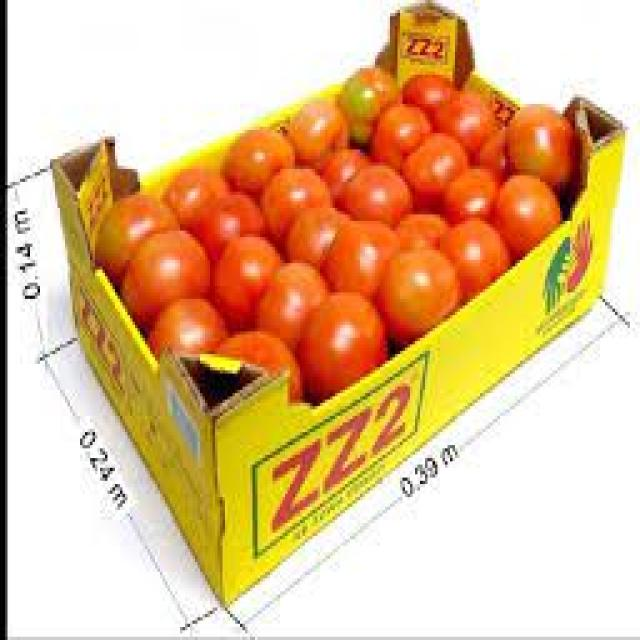Tomato: (302, 288, 388, 409), (375, 243, 461, 351), (121, 228, 210, 312), (260, 164, 334, 236), (508, 102, 576, 177)
